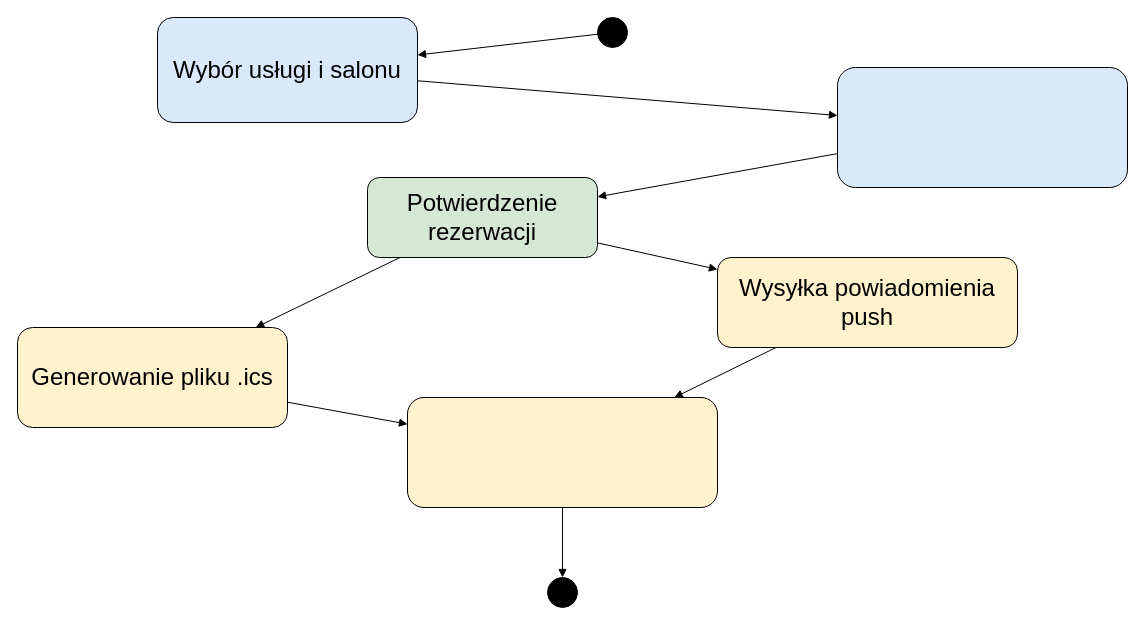
Image size: 1145x625. Some labels were removed from this diagram. Here are the shapes that lost their labels. From the top down, the centre of each, then its label:
point 982,127: Wybór daty i godziny
point 562,452: Wysyłka SMS przypomnienia (np. 24h przed)
